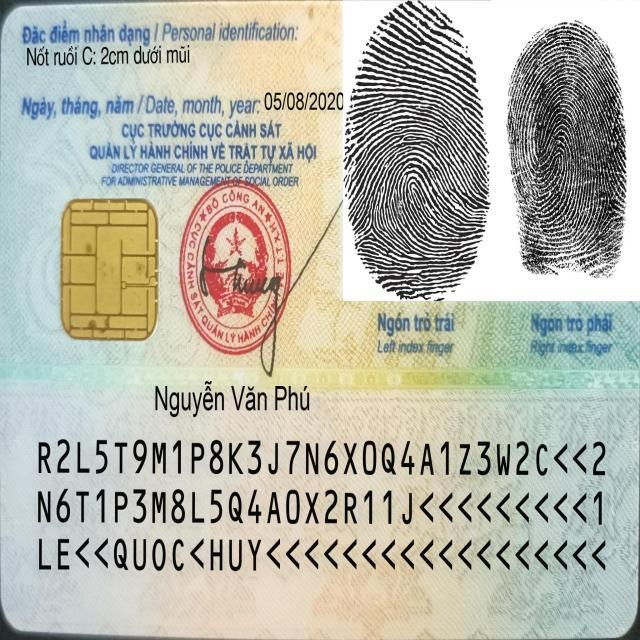features: (25, 42, 198, 74)
finger_print: (342, 2, 500, 359), (499, 0, 639, 363)
issue_date: (261, 86, 346, 116)
